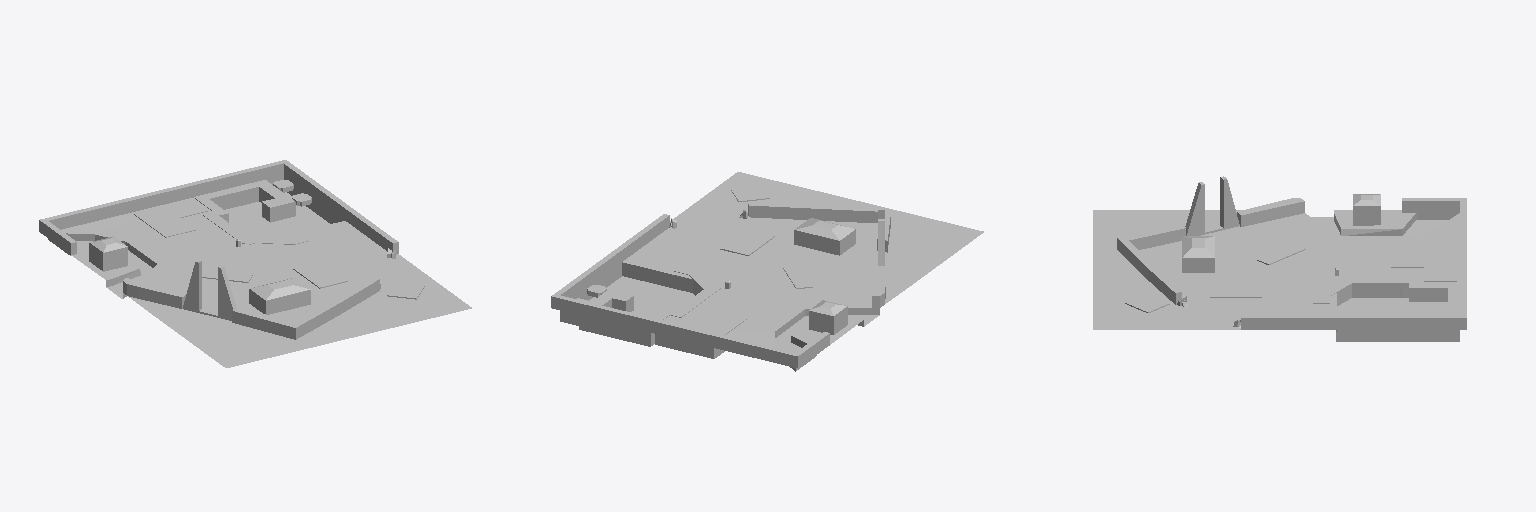
File: TD_Blockout01_mesh.obj
The picture shows the model from 3 angles: view 1: azimuth 30°, elevation 25°; view 2: azimuth 150°, elevation 25°; view 3: azimuth 270°, elevation 25°; orthographic projection.
Parts seen in each view (by area): view 1: TD_blockout01_Mesh; view 2: TD_blockout01_Mesh; view 3: TD_blockout01_Mesh.
Boxes of the visible parts, x1,y1,x2,y2 form: TD_blockout01_Mesh: [39, 160, 471, 367]; TD_blockout01_Mesh: [551, 172, 983, 371]; TD_blockout01_Mesh: [1093, 176, 1466, 341].
Bounding box in the file's own units: 67.12 × 18.88 × 88.02.